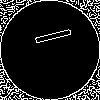I: (25, 25, 73, 50)
